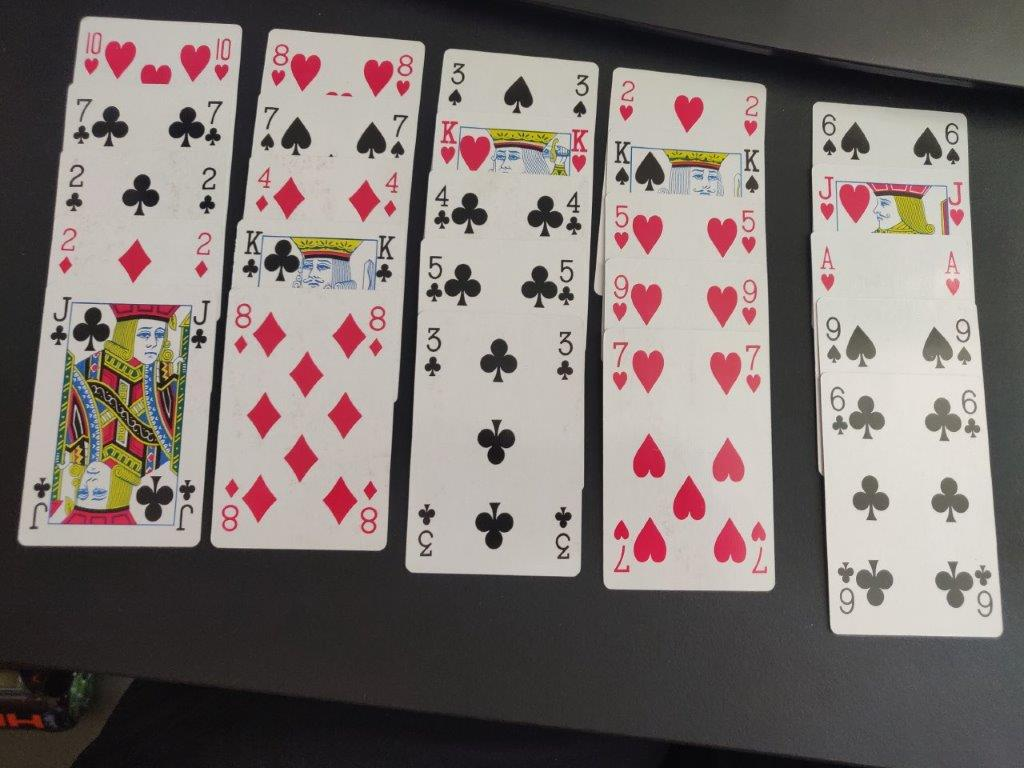10H: (75, 30, 104, 81), (208, 34, 235, 85)
2C: (60, 161, 87, 218), (196, 163, 222, 218)
2D: (190, 226, 215, 282), (54, 227, 81, 277)
2H: (611, 76, 642, 128), (739, 91, 765, 139)
3C: (419, 323, 449, 386), (554, 328, 576, 387)
3S: (443, 58, 470, 112), (570, 69, 591, 126)
4C: (429, 181, 454, 234), (563, 188, 584, 240)
4D: (251, 163, 276, 218), (381, 167, 403, 220)
5C: (420, 250, 447, 307), (554, 256, 578, 308)
5H: (609, 200, 635, 254), (736, 205, 761, 258)
6C: (826, 377, 854, 437), (959, 384, 983, 443)
6S: (815, 106, 840, 162), (942, 117, 963, 169)
7C: (198, 97, 227, 150), (70, 96, 95, 149)
7H: (739, 341, 767, 398), (607, 336, 631, 398)
7S: (257, 104, 282, 156), (388, 110, 412, 161)
8D: (227, 300, 256, 358), (366, 300, 387, 359)
8H: (392, 50, 416, 100), (268, 42, 292, 88)
9H: (735, 272, 759, 331), (608, 269, 633, 324)
9S: (820, 311, 846, 368), (950, 316, 976, 369)
AH: (939, 248, 968, 301), (816, 242, 840, 293)
JC: (187, 295, 211, 357), (48, 291, 72, 348)
JH: (944, 177, 970, 231), (815, 171, 839, 226)
KC: (238, 223, 265, 283), (372, 233, 396, 288)
KH: (436, 115, 463, 167), (567, 126, 590, 177)
KS: (607, 133, 635, 191), (739, 144, 765, 198)
